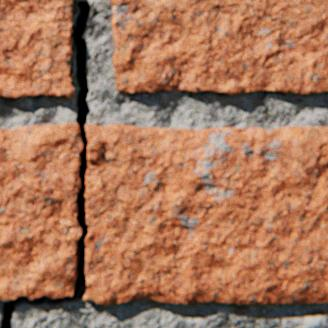brick: (111, 0, 327, 94), (0, 0, 74, 97)
broken_brick: (83, 123, 327, 304), (0, 122, 83, 299)
crack: (0, 0, 91, 327)
